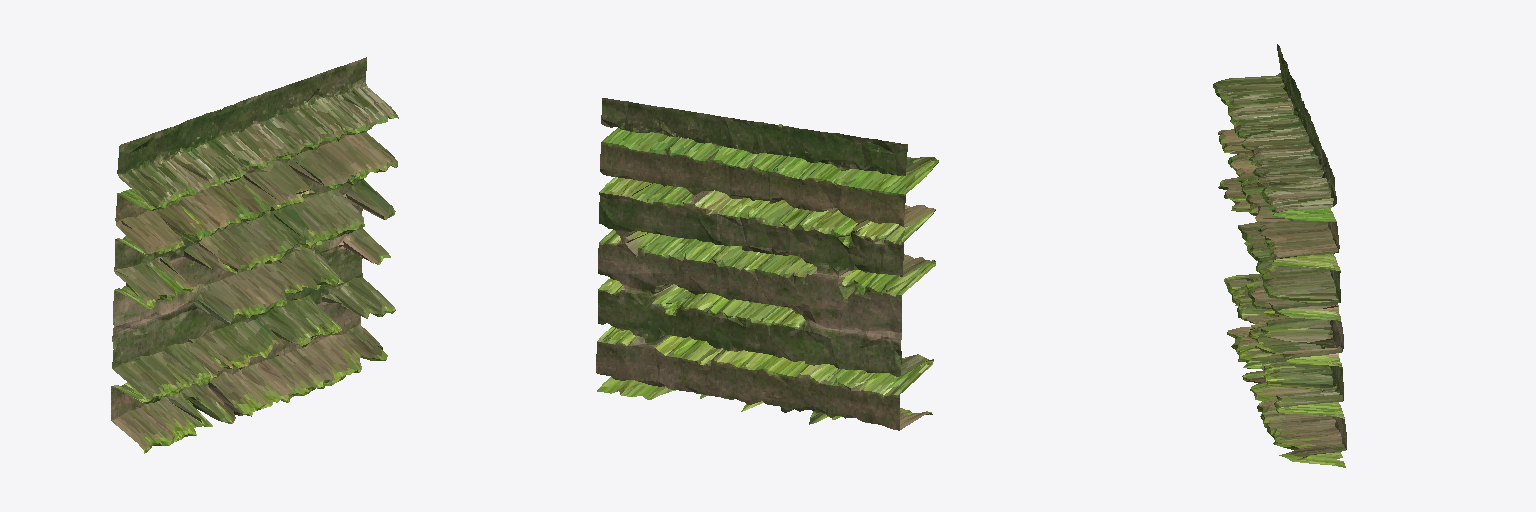
3 views of the same model, side by side, from view 1: azimuth 30°, elevation 25°; view 2: azimuth 150°, elevation 25°; view 3: azimuth 270°, elevation 25° (orthographic).
Visible parts, largest first — view 1: grp1; view 2: grp1; view 3: grp1.
Boxes of the visible parts, box(x1,y1,x2,y2) form: grp1: box(111, 57, 398, 453); grp1: box(596, 98, 938, 430); grp1: box(1213, 44, 1346, 467).
Bounding box in the file's own units: 10 × 10 × 4.19.
1 materials, 1 textured.